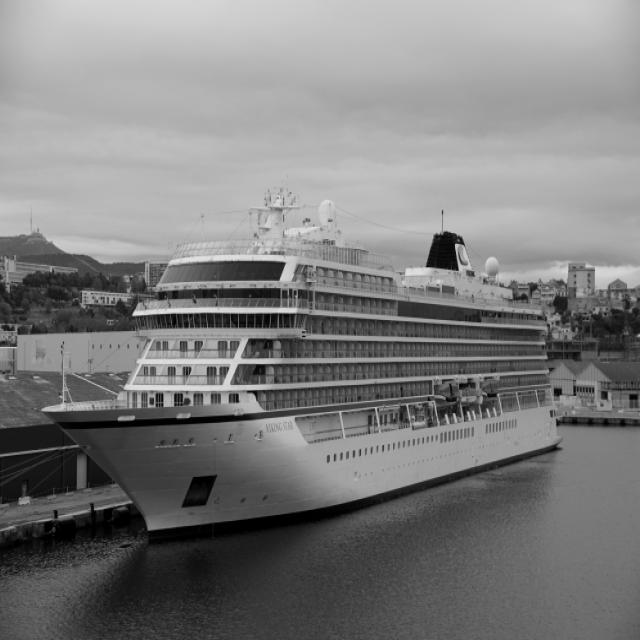cruises: (39, 190, 565, 548)
